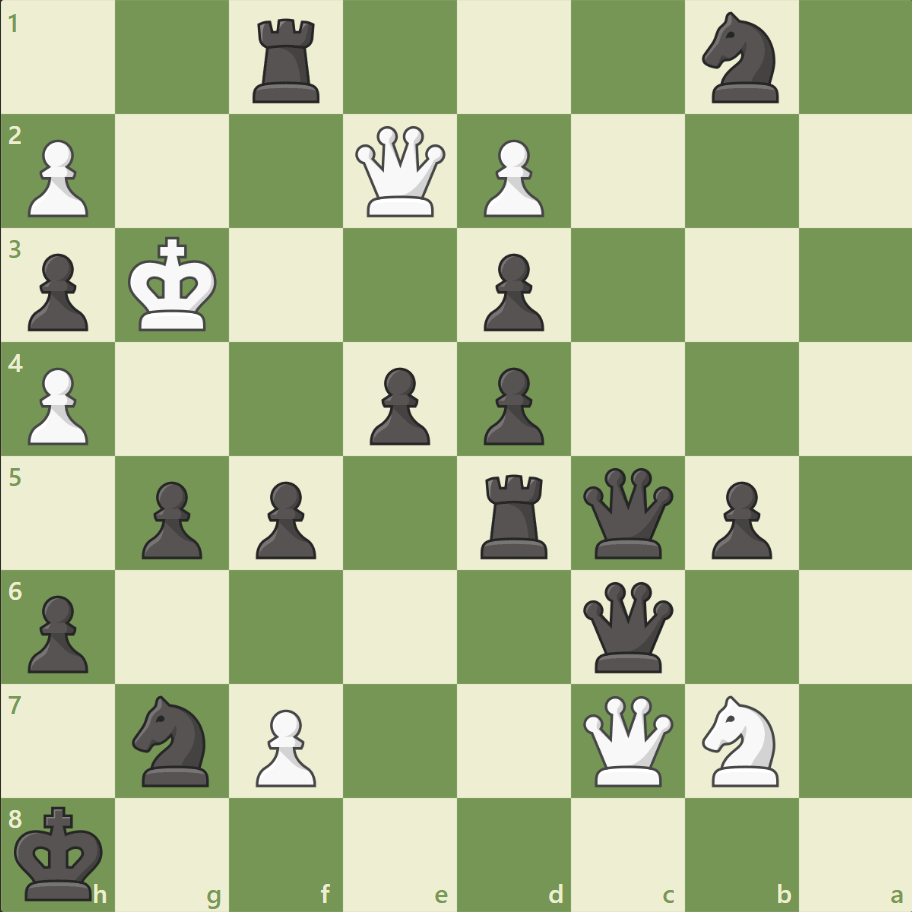K: (124, 231, 224, 339)
N: (692, 688, 789, 791)
P: (247, 700, 322, 791), (20, 359, 95, 450), (474, 132, 549, 223), (20, 132, 95, 223)
Q: (351, 122, 450, 222), (578, 690, 677, 789)
k: (11, 798, 111, 906)
n: (124, 688, 222, 791), (692, 7, 789, 110)
p: (20, 586, 95, 677), (701, 473, 776, 564), (247, 473, 322, 564), (133, 473, 208, 564), (474, 359, 549, 450), (474, 246, 549, 337), (20, 246, 95, 337), (361, 359, 435, 450)
q: (578, 576, 677, 676), (578, 463, 677, 562)
r: (473, 466, 556, 563), (246, 12, 329, 109)
